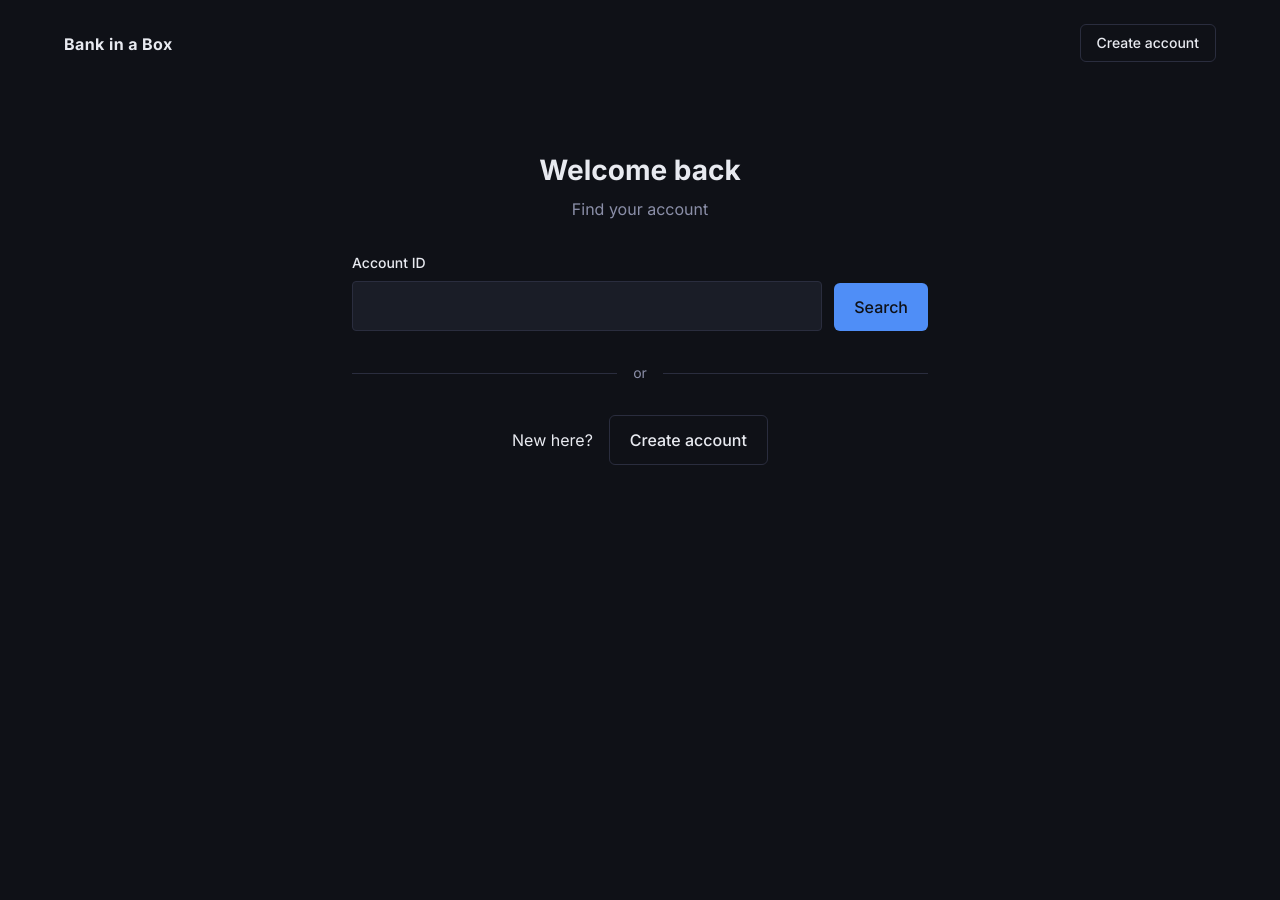
Test: HomePage account creation › shows a duplicate-email backend error on the email field
Click the button "Create account" next to "New here?" at (688, 440), box left=609, top=415, right=768, bottom=465
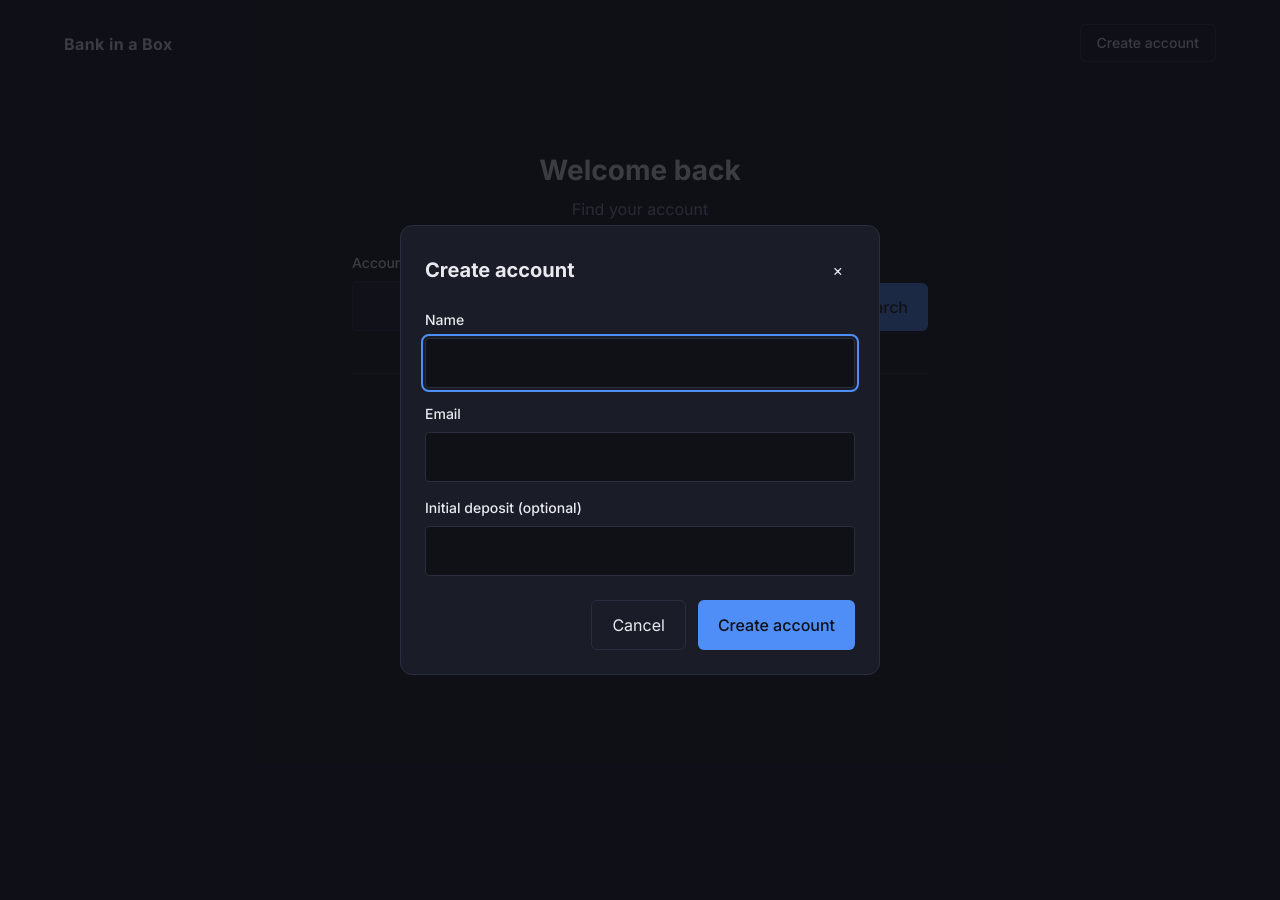
Type "Ada Lovelace" into the field labelled "Name" at (640, 363), box left=425, top=338, right=855, bottom=388
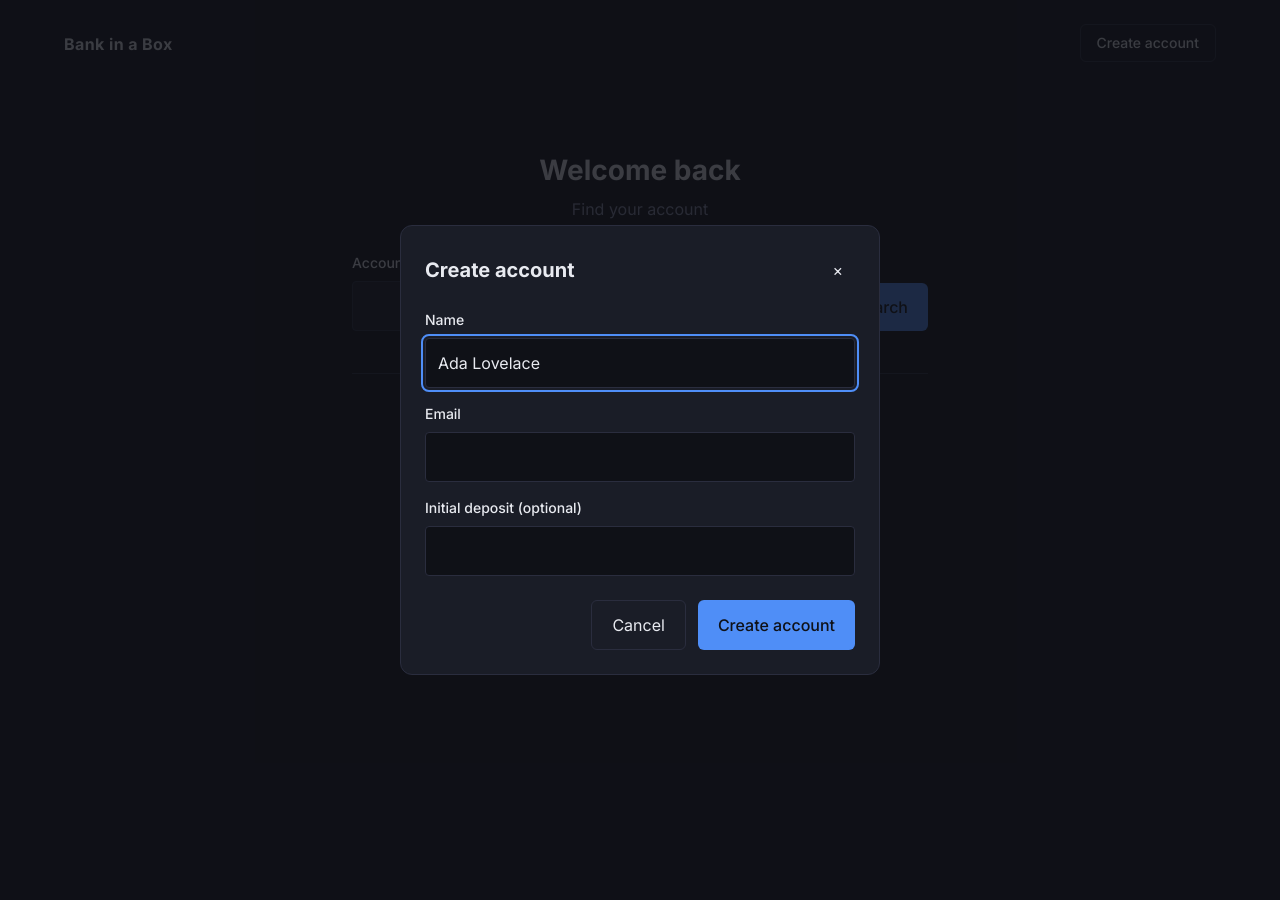
Type "ada@example.com" into the field labelled "Email" at (640, 457), box left=425, top=432, right=855, bottom=482
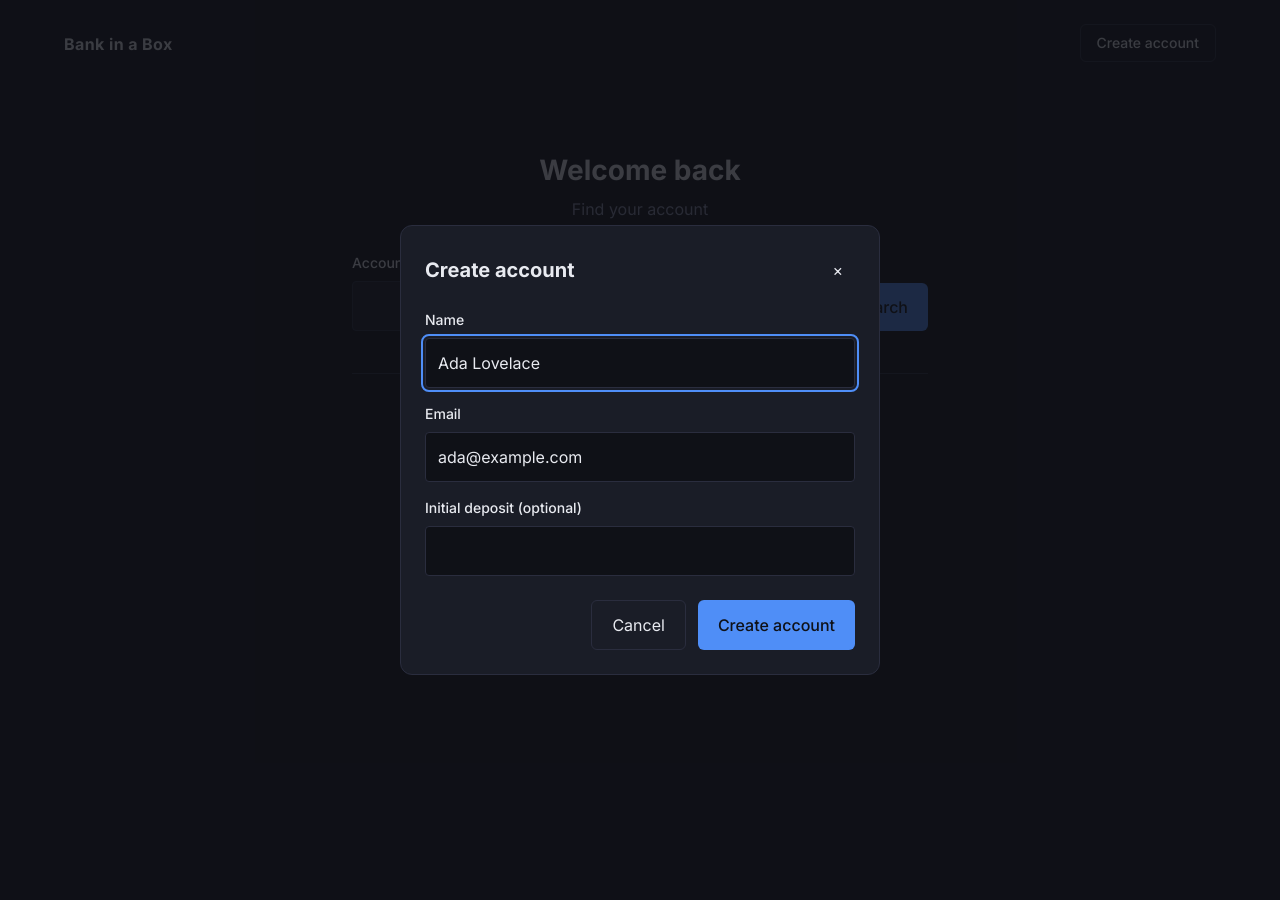
Click the button "Create account" at (776, 625), box left=698, top=600, right=855, bottom=650
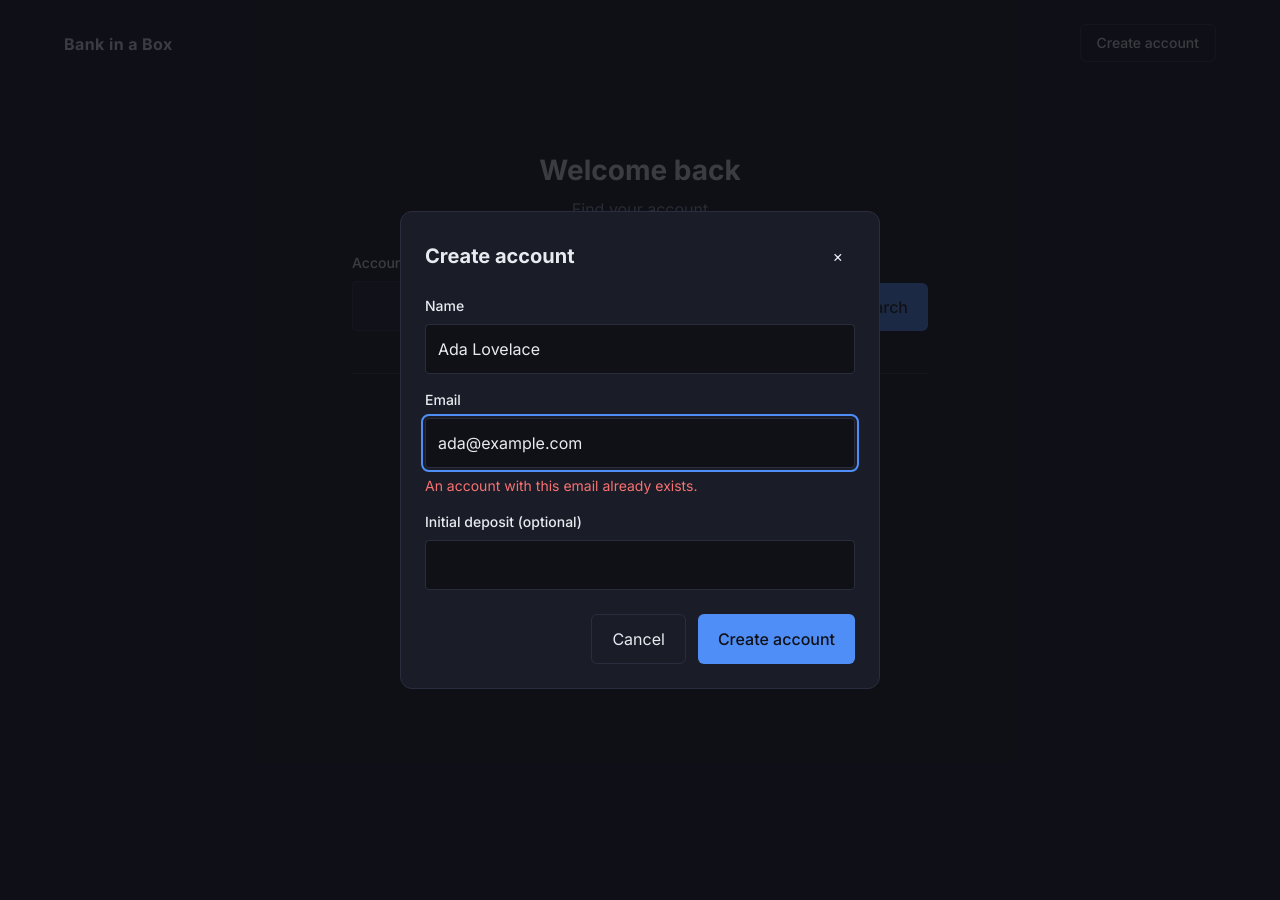
Check: the text "An account with this email already exists." is shown, box left=425, top=477, right=698, bottom=494
